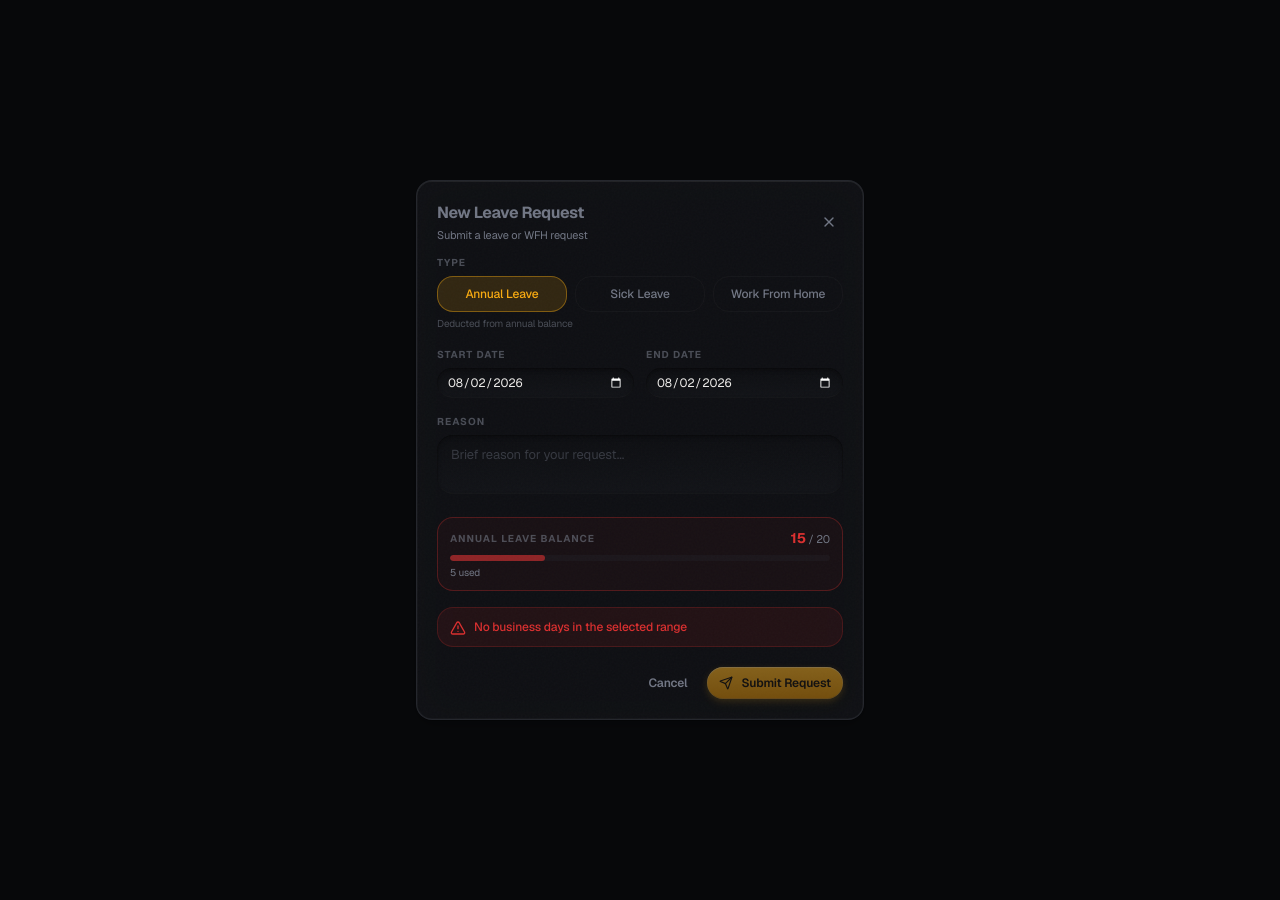
LeaveRequestForm › shows sick leave balance and auto-approved badge when sick selected (Req 6.3)
Click the button "Sick Leave" at (640, 294), box [575,276,705,312]
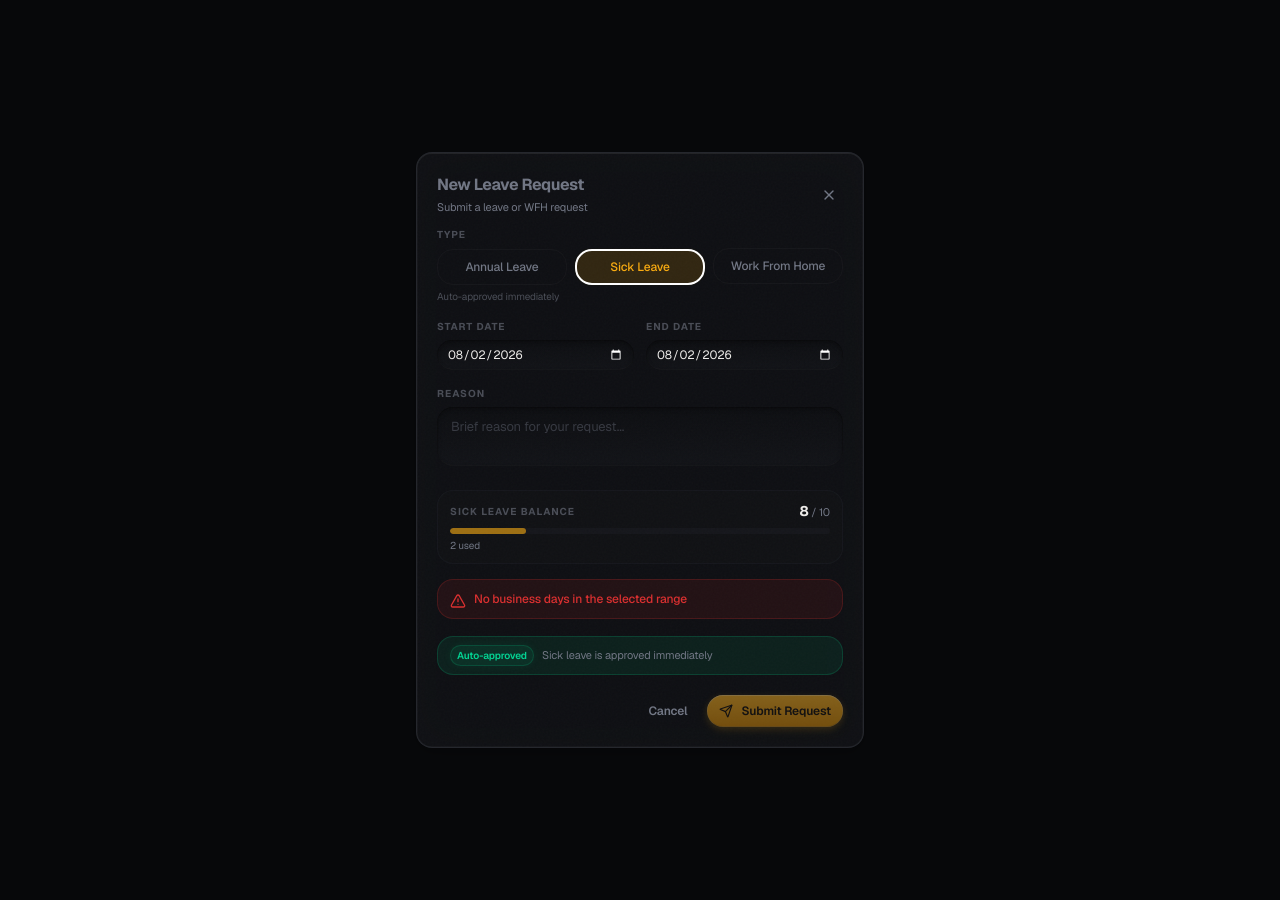
Check: the text "Auto-approved" is shown, box [450,645,534,666]
Check: the text "Sick Leave Balance" is shown, box [450,504,575,519]
